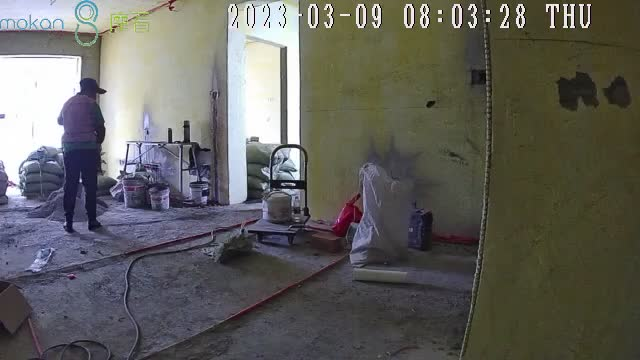people: (56, 78, 105, 231)
window: (1, 55, 82, 185)
